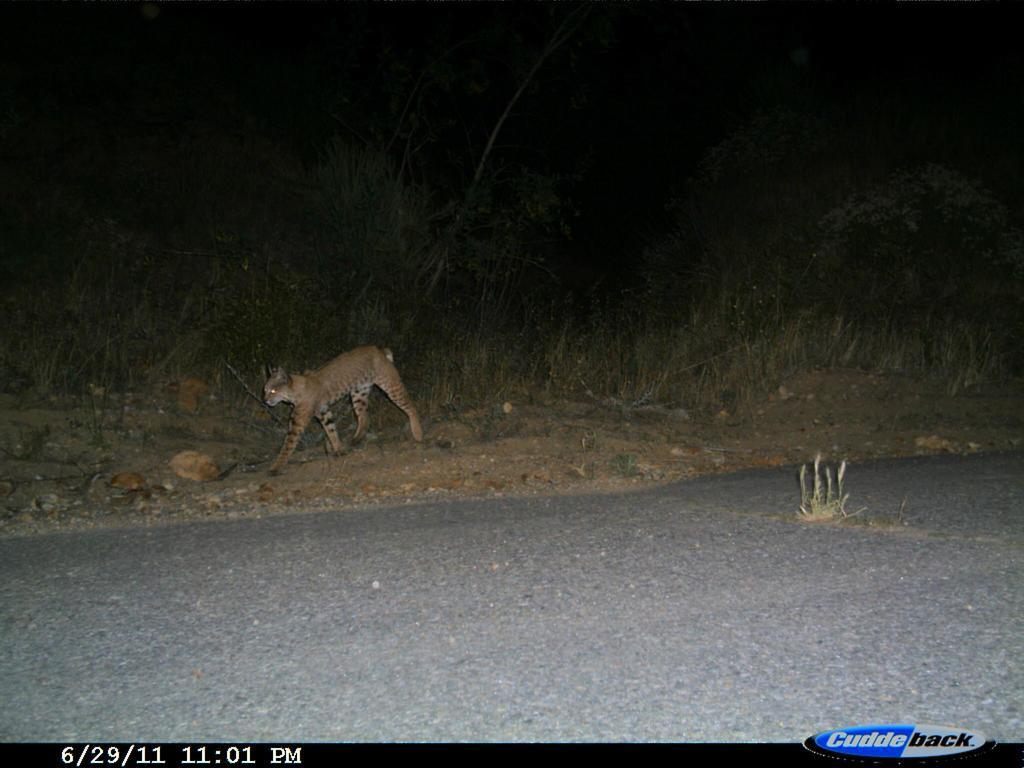bobcat: (249, 342, 427, 483)
